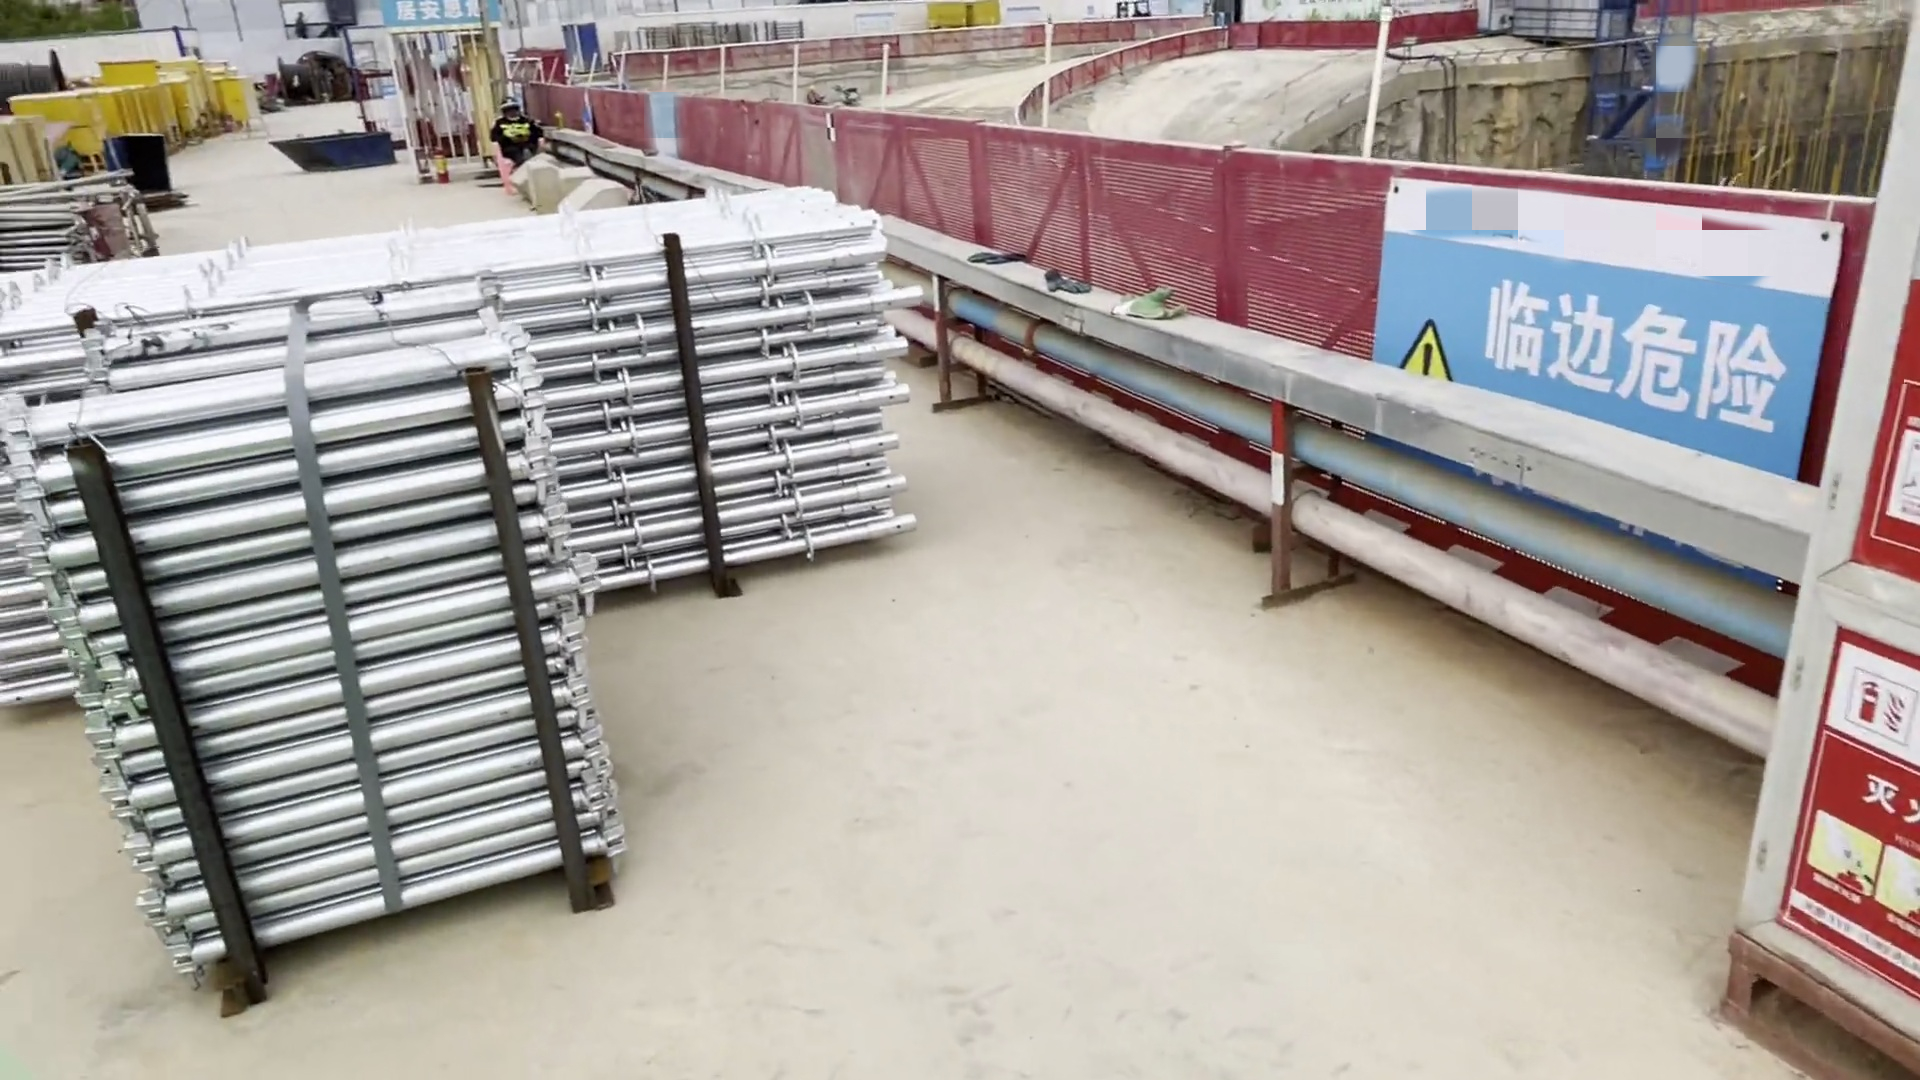fence: (986, 120, 1240, 310), (1234, 152, 1383, 372), (845, 108, 993, 214), (683, 90, 811, 181)
scaffold: (1, 150, 945, 704), (29, 330, 665, 1015)
slogan: (1390, 229, 1782, 442)
